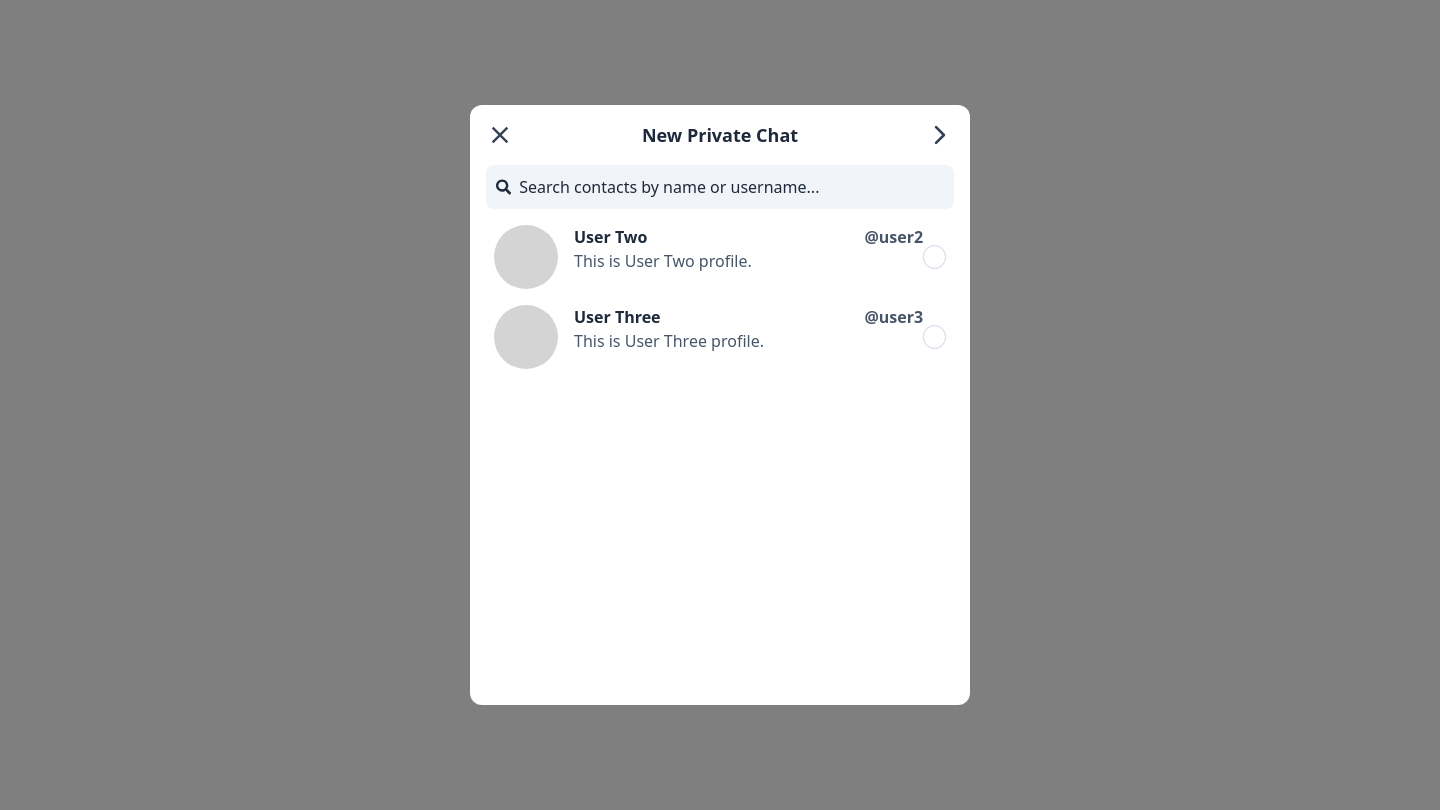
Test: <NewChatModal /> › Private Chat Modal › prevents starting chat without selecting contact
This screenshot has width=1440, height=810.
What coordinates should you click on to do the following:
click the button with test id "start-new-private-chat"
I would click on:
 (940, 135)
Its box is [926, 121, 954, 149].
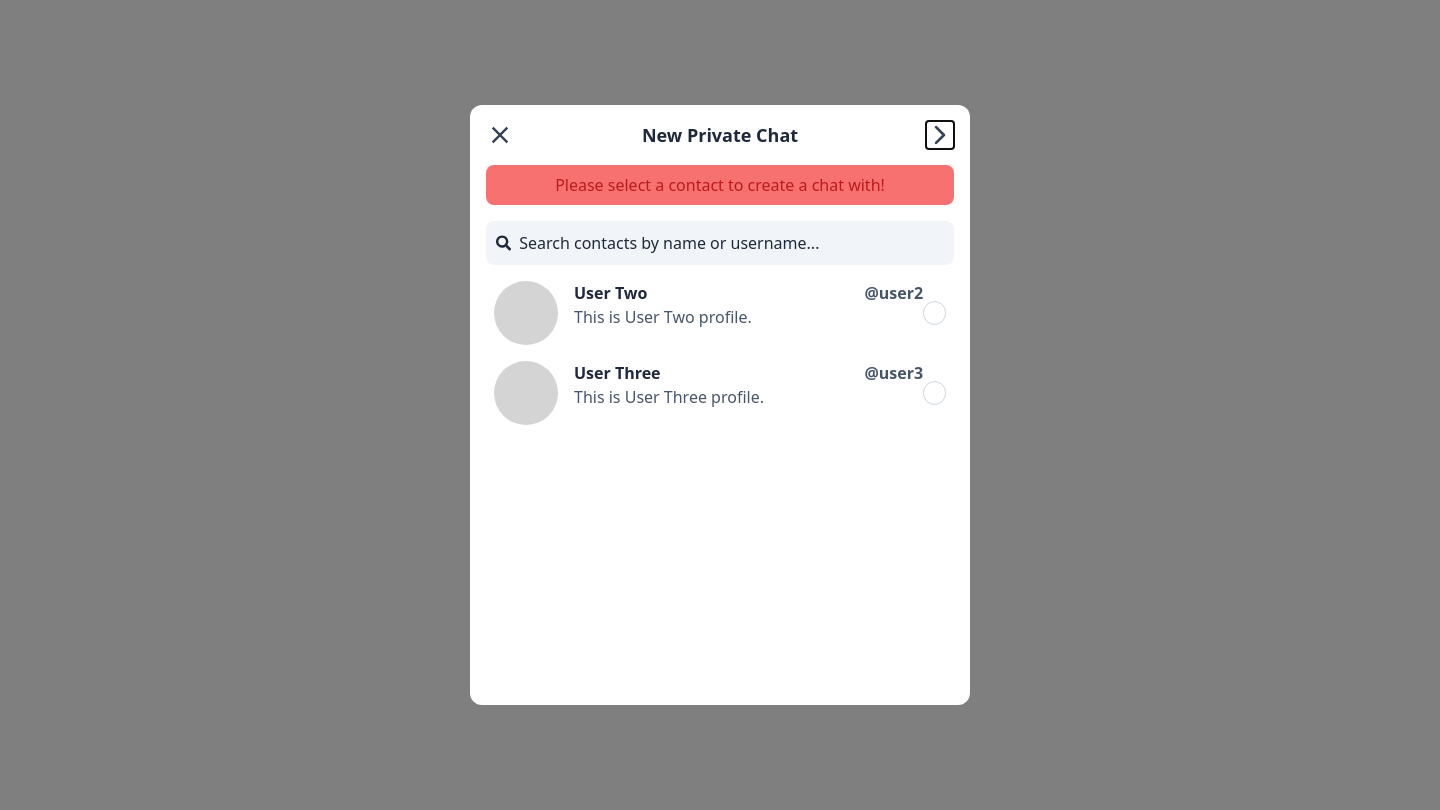
Result: the text "Please select a contact to create a chat with!" is shown at [486, 165, 954, 205]
